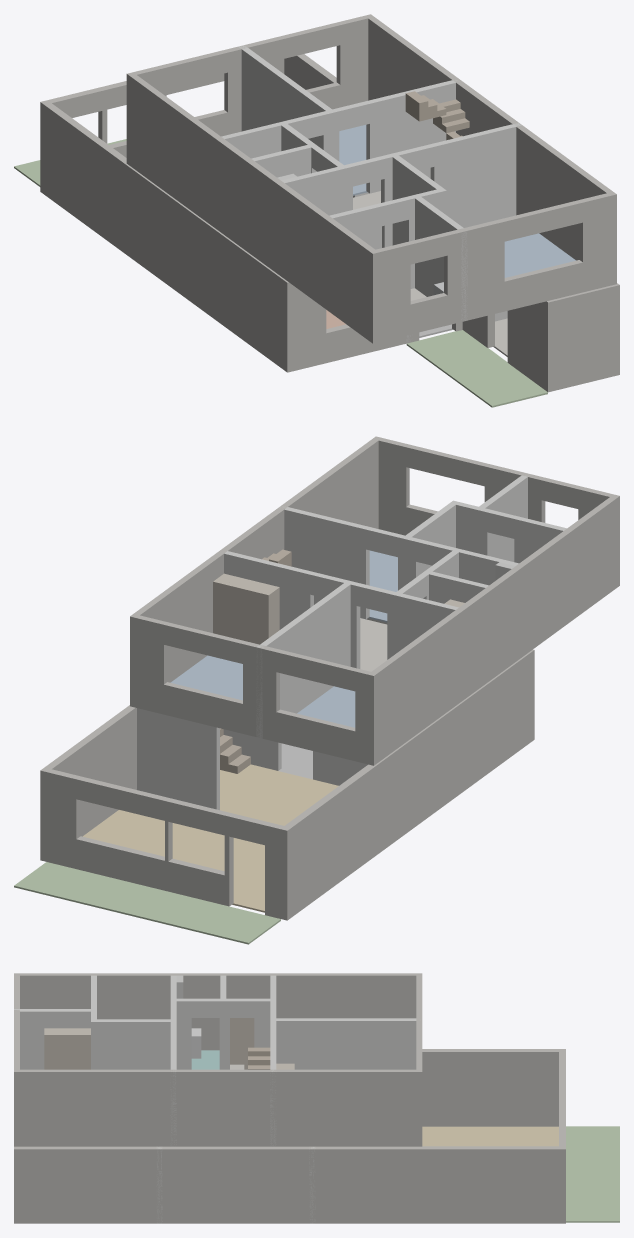
The model's file is PROP_1001.glb.
The picture shows the model from 3 angles, top to bottom: view 1: azimuth 30°, elevation 25°; view 2: azimuth 150°, elevation 25°; view 3: azimuth 270°, elevation 25°; orthographic projection. The views are drawn at different scales.
Parts seen in each view (by area): view 1: L1_wall_F1_W0, L0_wall_F0_W5, L1_wall_F1_W3, L1_wall_F1_W5, L1_wall_F1_W2, L1_wall_F1_W1, L1_wall_F1_W4, L0_wall_F0_W2, L0_floor_F0_R0_0, L0_wall_F0_W0, L1_wall_F1_W11, L0_wall_F0_W1 (+11 smaller); view 2: L1_wall_F1_W0, L0_wall_F0_W5, L1_wall_F1_W1, L0_wall_F0_W4, L0_floor_F0_R2_0, L1_wall_F1_W2, L1_wall_F1_W5, L1_wall_F1_W3, L0_floor_F0_R3_0, L1_wall_F1_W4, L0_wall_F0_W12, L1_wall_F1_W11 (+17 smaller); view 3: L0_wall_F0_W3, L1_wall_F1_W2, L1_wall_F1_W0, L0_wall_F0_W5, L1_wall_F1_W11, L0_floor_F0_R3_0, L1_wall_F1_W6, L1_wall_F1_W9, L0_floor_F0_R2_0, L1_wall_F1_W8, L1_fixture_F1_X11, L1_wall_F1_W4 (+9 smaller).
Boxes of the visible parts, x1,y1,x2,y2 form: L1_wall_F1_W0: [126, 74, 375, 343]; L0_wall_F0_W5: [40, 102, 287, 371]; L1_wall_F1_W3: [373, 193, 616, 343]; L1_wall_F1_W5: [281, 122, 521, 247]; L1_wall_F1_W2: [368, 14, 616, 260]; L1_wall_F1_W1: [127, 14, 370, 136]; L1_wall_F1_W4: [221, 80, 459, 193]; L0_wall_F0_W2: [548, 284, 619, 392]; L0_floor_F0_R0_0: [406, 330, 547, 407]; L0_wall_F0_W0: [287, 282, 462, 372]; L1_wall_F1_W11: [239, 45, 335, 147]; L0_wall_F0_W1: [462, 301, 548, 391]; L1_wall_F1_W0: [371, 496, 619, 765]; L0_wall_F0_W5: [284, 650, 534, 920]; L1_wall_F1_W1: [130, 615, 373, 765]; L0_wall_F0_W4: [40, 769, 287, 920]; L0_floor_F0_R2_0: [83, 764, 338, 912]; L1_wall_F1_W2: [130, 436, 378, 682]; L1_wall_F1_W5: [279, 506, 518, 619]; L1_wall_F1_W3: [376, 436, 619, 535]; L0_floor_F0_R3_0: [14, 862, 280, 944]; L1_wall_F1_W4: [224, 551, 458, 668]; L0_wall_F0_W12: [137, 708, 219, 810]; L1_wall_F1_W11: [256, 580, 350, 738]; L0_wall_F0_W3: [14, 1146, 565, 1223]; L1_wall_F1_W2: [14, 1069, 422, 1146]; L1_wall_F1_W0: [15, 973, 421, 1050]; L0_wall_F0_W5: [422, 1049, 565, 1126]; L1_wall_F1_W11: [270, 1018, 416, 1069]; L0_floor_F0_R3_0: [566, 1126, 619, 1222]; L1_wall_F1_W6: [91, 1019, 170, 1069]; L1_wall_F1_W9: [170, 998, 270, 1069]; L0_floor_F0_R2_0: [422, 1126, 558, 1146]; L1_wall_F1_W8: [14, 1009, 90, 1069]; L1_fixture_F1_X11: [44, 1028, 76, 1069]; L1_wall_F1_W4: [270, 975, 276, 1145].
Bounding box in the file's own units: 7.77 × 5.55 × 19.9.
